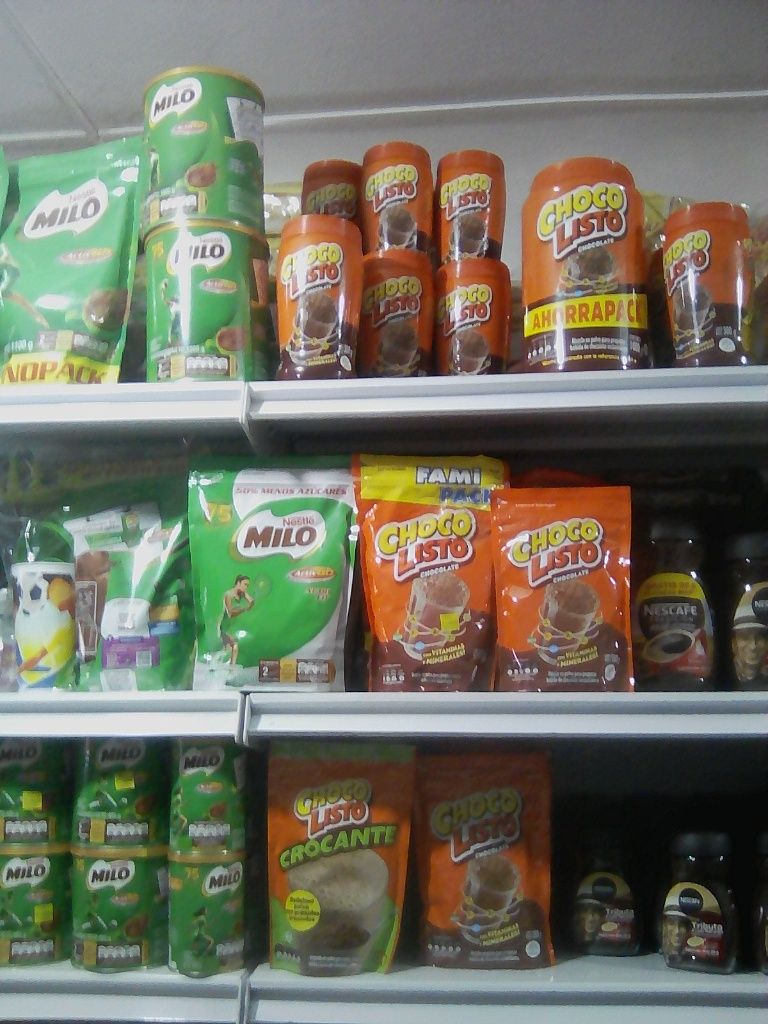COL0170102DYP25000: (264, 742, 419, 978)
COL0170103DYP20000: (493, 492, 633, 694)
COL0170103DYP36000: (359, 448, 504, 692)
COL0170103TRR00100: (516, 148, 653, 372)
COL0170103TRR30000: (655, 191, 756, 370)
COL0170203LAT20000: (163, 848, 253, 982)
COL0170203LAT40000: (67, 846, 172, 970)
COL0170205DYP50000: (35, 452, 197, 695)
